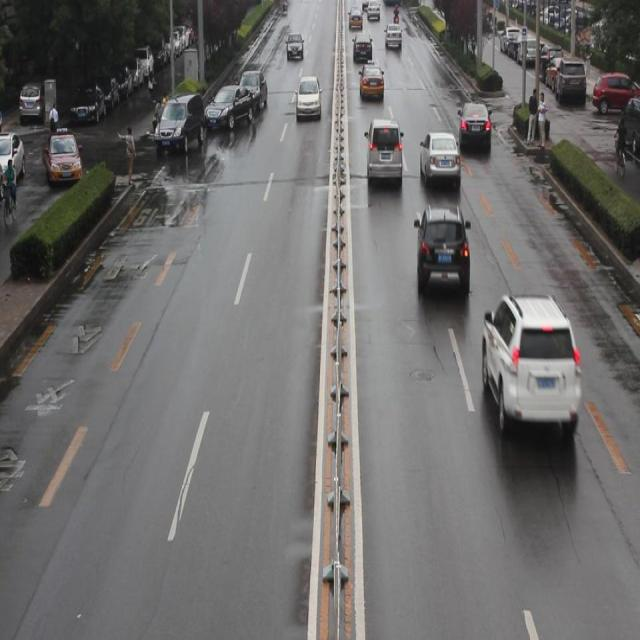car: (479, 291, 579, 444), (415, 204, 468, 303), (204, 82, 253, 134), (416, 132, 458, 187), (457, 98, 490, 152), (237, 67, 265, 112), (294, 76, 318, 118)
truck: (154, 95, 201, 153), (365, 118, 400, 188)
